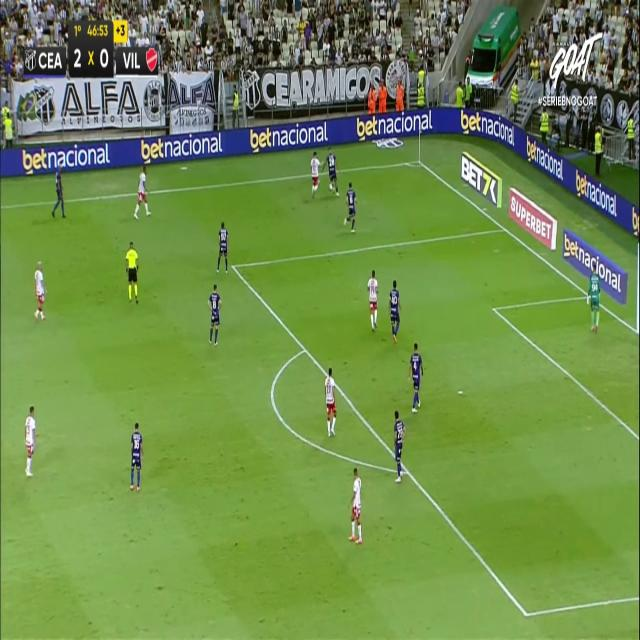ball: (326, 180, 333, 193)
goalkeeper: (586, 262, 601, 333)
player: (408, 342, 424, 413), (348, 467, 362, 544), (130, 421, 144, 491), (133, 165, 151, 219), (321, 145, 339, 195), (207, 283, 221, 346), (393, 410, 405, 482), (24, 405, 36, 477), (33, 260, 47, 320), (324, 367, 336, 437), (388, 279, 401, 343), (51, 164, 66, 218), (343, 180, 357, 233), (367, 269, 378, 331), (216, 220, 228, 273), (310, 151, 320, 198)
referee: (125, 241, 139, 303)
